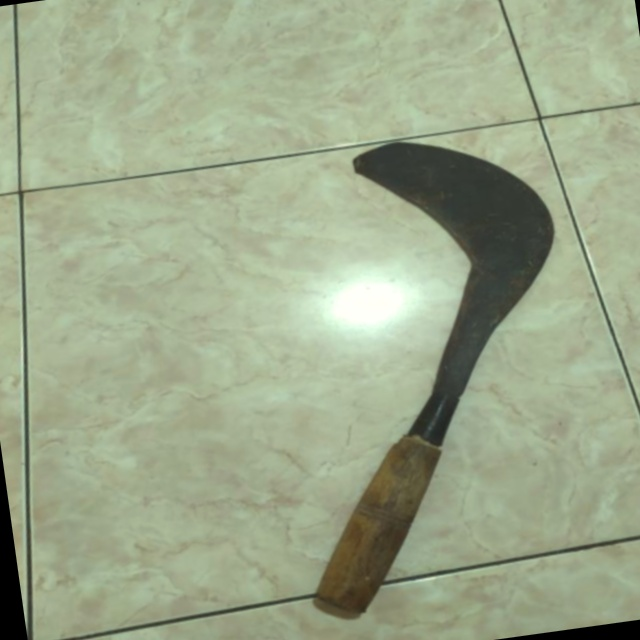Sharp-Object: (219, 109, 625, 640)
